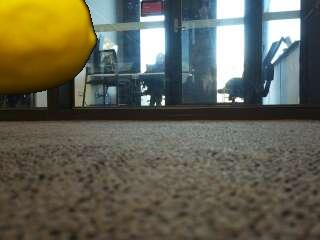lemon: (0, 0, 94, 94)
